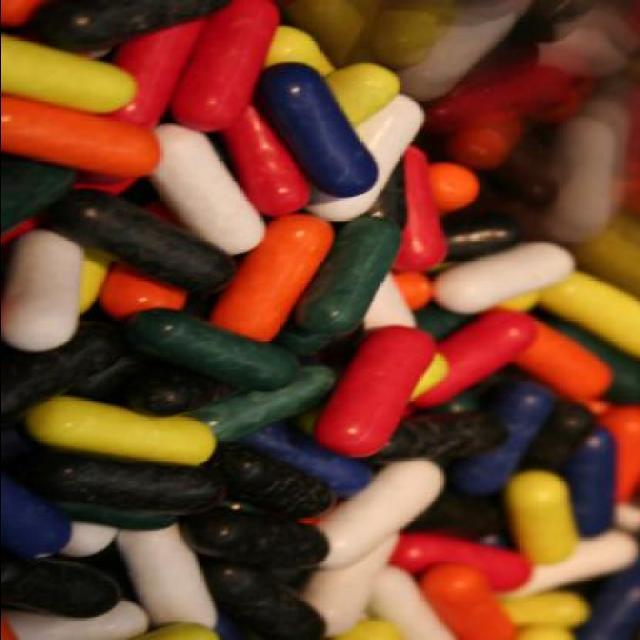Candy: (2, 0, 640, 566)
